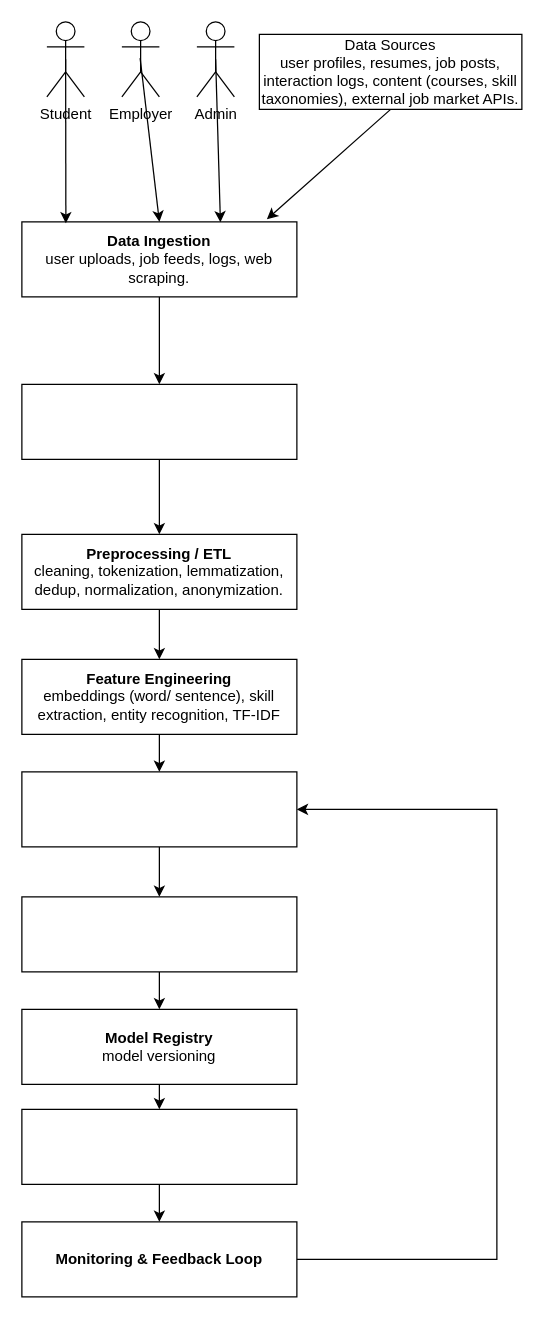
The diagram is 544 pixels wide and 1319 high, and some of its shapes have lost their labels. The box of each missing label's shape, as (x1, y1, x2, y2) in pixels:
Application Layer recommendation page, student dashboard, employer match: (21, 1108, 297, 1184)
Data Storage: (21, 383, 297, 459)
Model Evaluation precision/recall, F1 validation.: (21, 896, 297, 972)
Modeling / Training: (21, 771, 297, 847)
